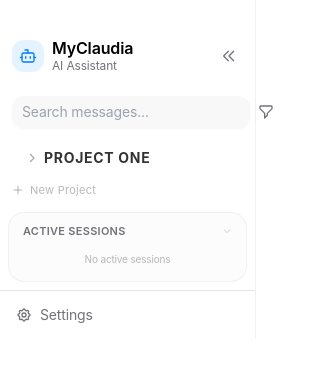
Test: Sidebar › shows "Searching..." while search is in progress
In the field with placeholder "Search messages...": (131, 112) [12,96,250,128], type "test query"
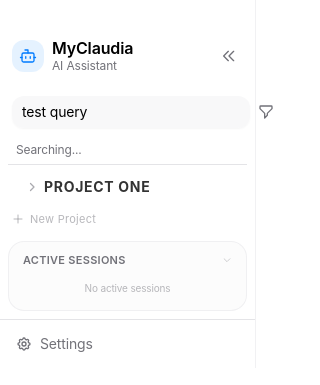
Check: the text "Searching..." is shown, box [16,142,82,157]
